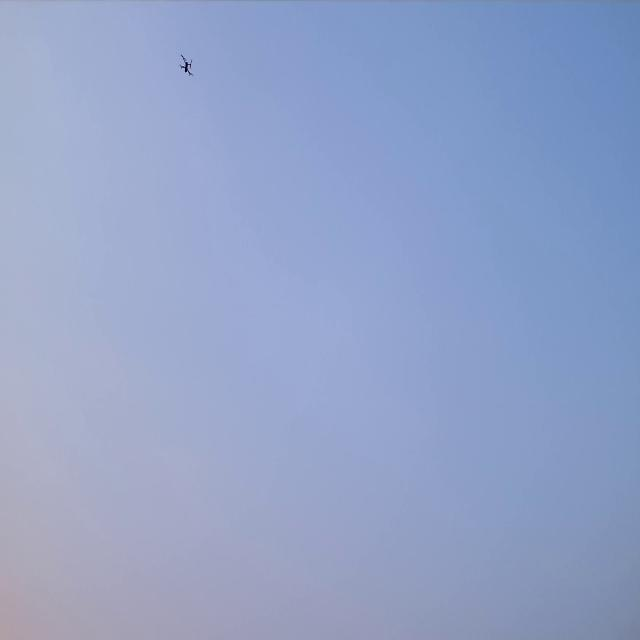UAV: (178, 46, 195, 81)
